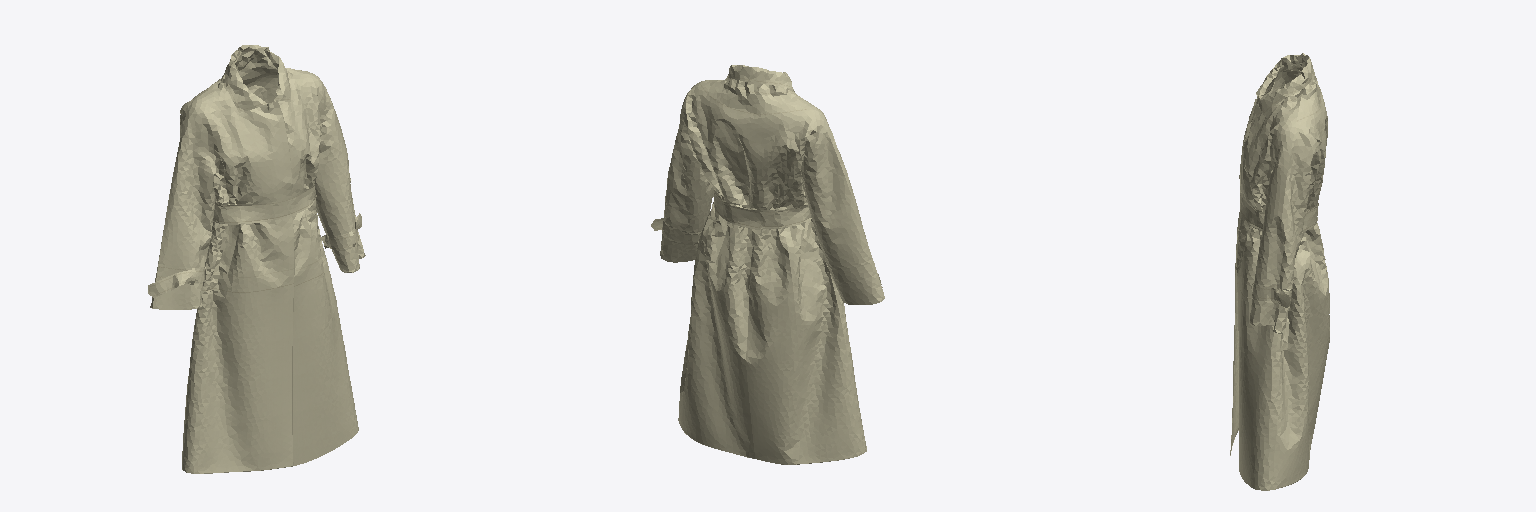
3 views of the same model, side by side, from view 1: azimuth 30°, elevation 25°; view 2: azimuth 150°, elevation 25°; view 3: azimuth 270°, elevation 25° (orthographic).
Visible parts, largest first — view 1: windcoat; view 2: windcoat; view 3: windcoat.
Boxes of the visible parts, <box> form: windcoat: <box>148,45,365,473</box>; windcoat: <box>651,65,884,464</box>; windcoat: <box>1230,53,1329,490</box>.
Size of the model in its own units: 0.4391 by 0.7499 by 0.1702.
21 materials, 1 textured.